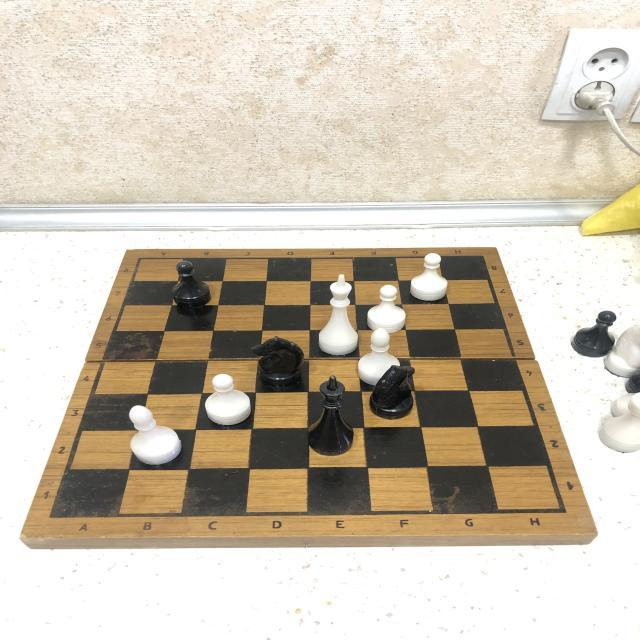chess-table-corners: (546, 498, 584, 521), (34, 504, 70, 528), (466, 248, 494, 266), (129, 251, 153, 268)
